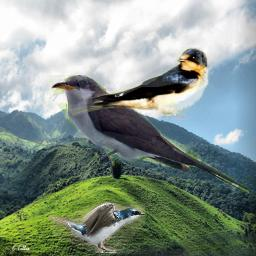Cuckoo: (49, 75, 249, 196)
Swallow: (69, 47, 210, 120), (48, 201, 145, 253)
